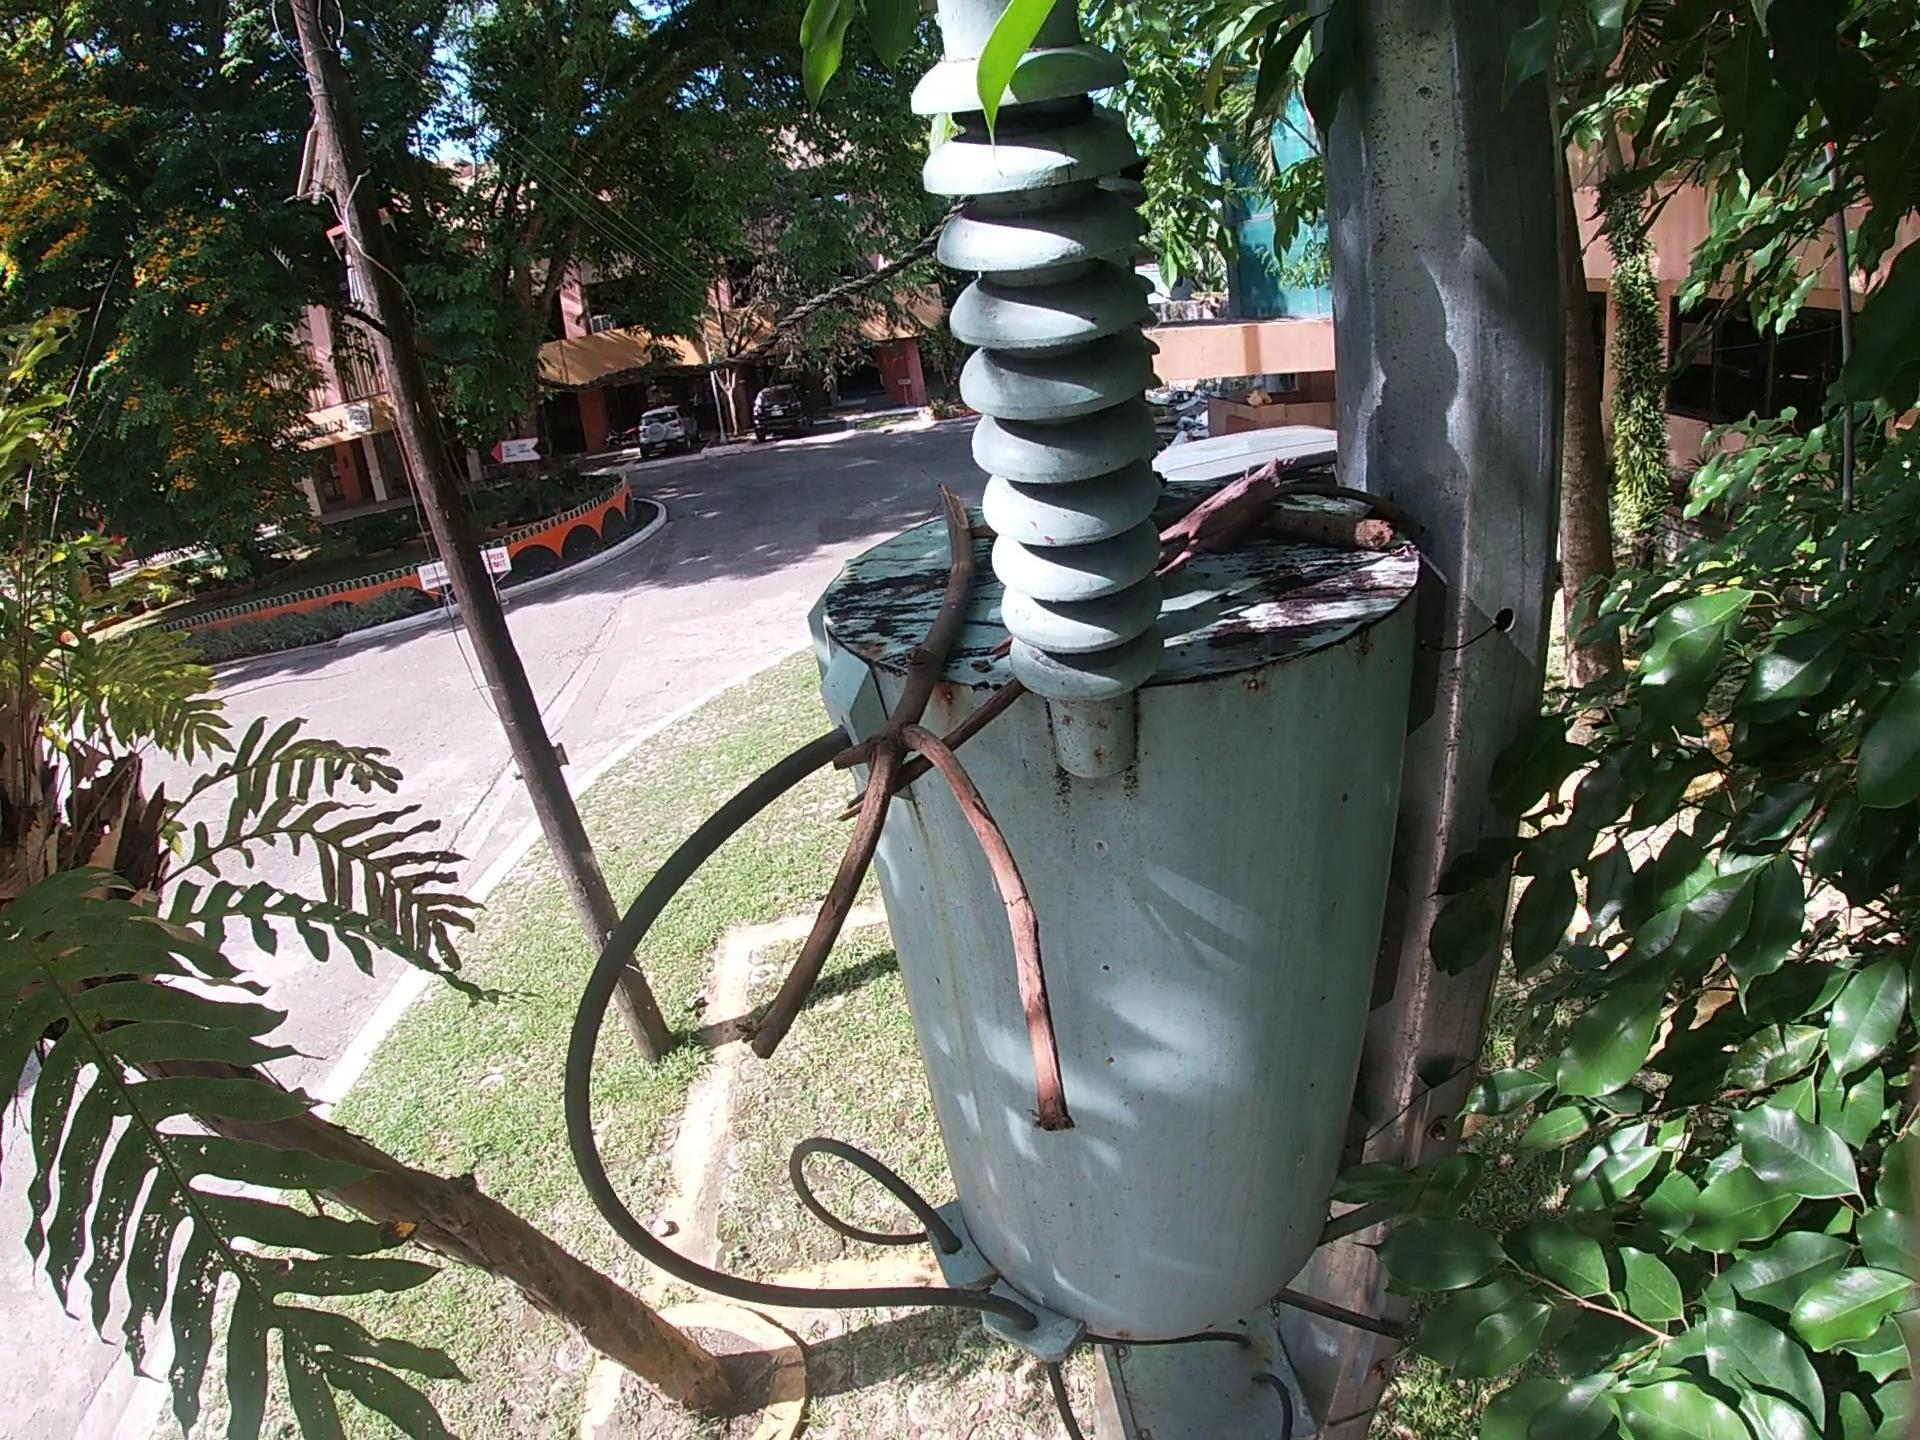mahogany fruit: (972, 511, 989, 545)
tree branch: (706, 476, 1092, 1196), (830, 688, 1030, 817), (1157, 442, 1333, 584), (1249, 508, 1423, 551), (842, 605, 993, 637), (1161, 475, 1226, 516), (1261, 489, 1389, 507), (977, 641, 1017, 675)
